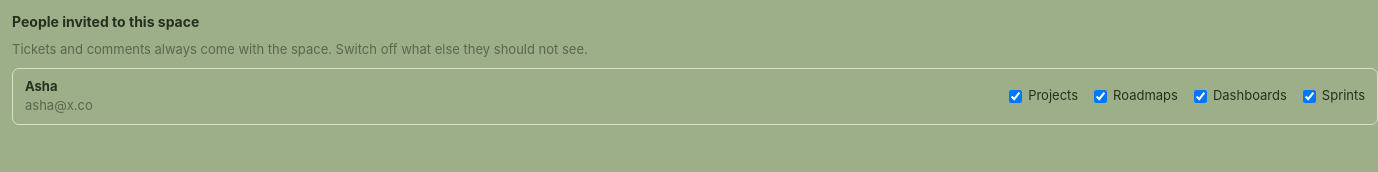
Scenario: what invited people see of a space › keeps the switch as it was and says why when the server refuses
This screenshot has width=1378, height=172.
Click the checkbox labelled "Projects" at coordinates (1016, 96), box top-left (1009, 90), bottom-right (1022, 102)
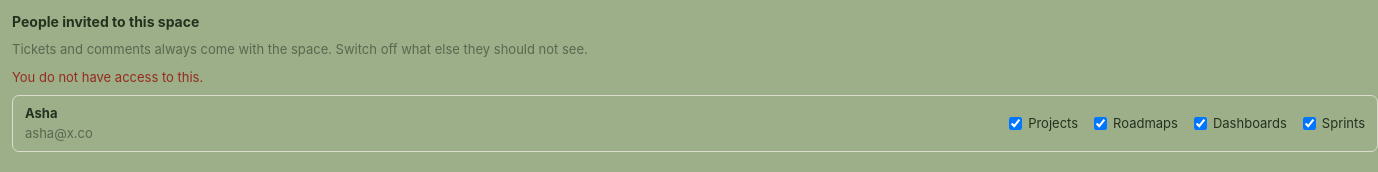
Expected: the message "You do not have access to this." is shown, top-left (12, 68), bottom-right (203, 84)
